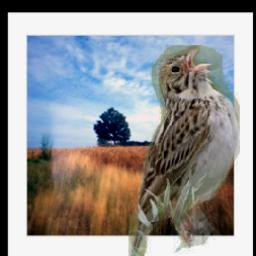Sparrow: (129, 45, 240, 256)
